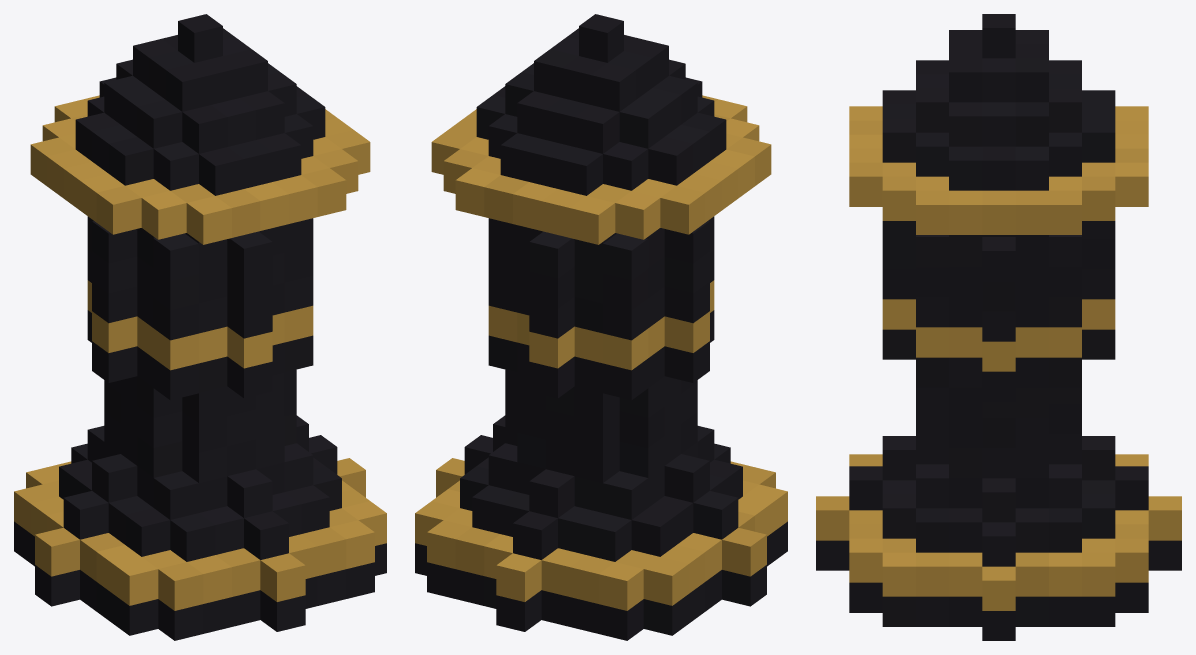
Rendered from black_bishop.glb.
3 renders of one model, left to right at view 1: azimuth 30°, elevation 25°; view 2: azimuth 150°, elevation 25°; view 3: azimuth 270°, elevation 25°, orthographic.
Bounding box in the file's own units: 1.1 × 1.8 × 1.1.
